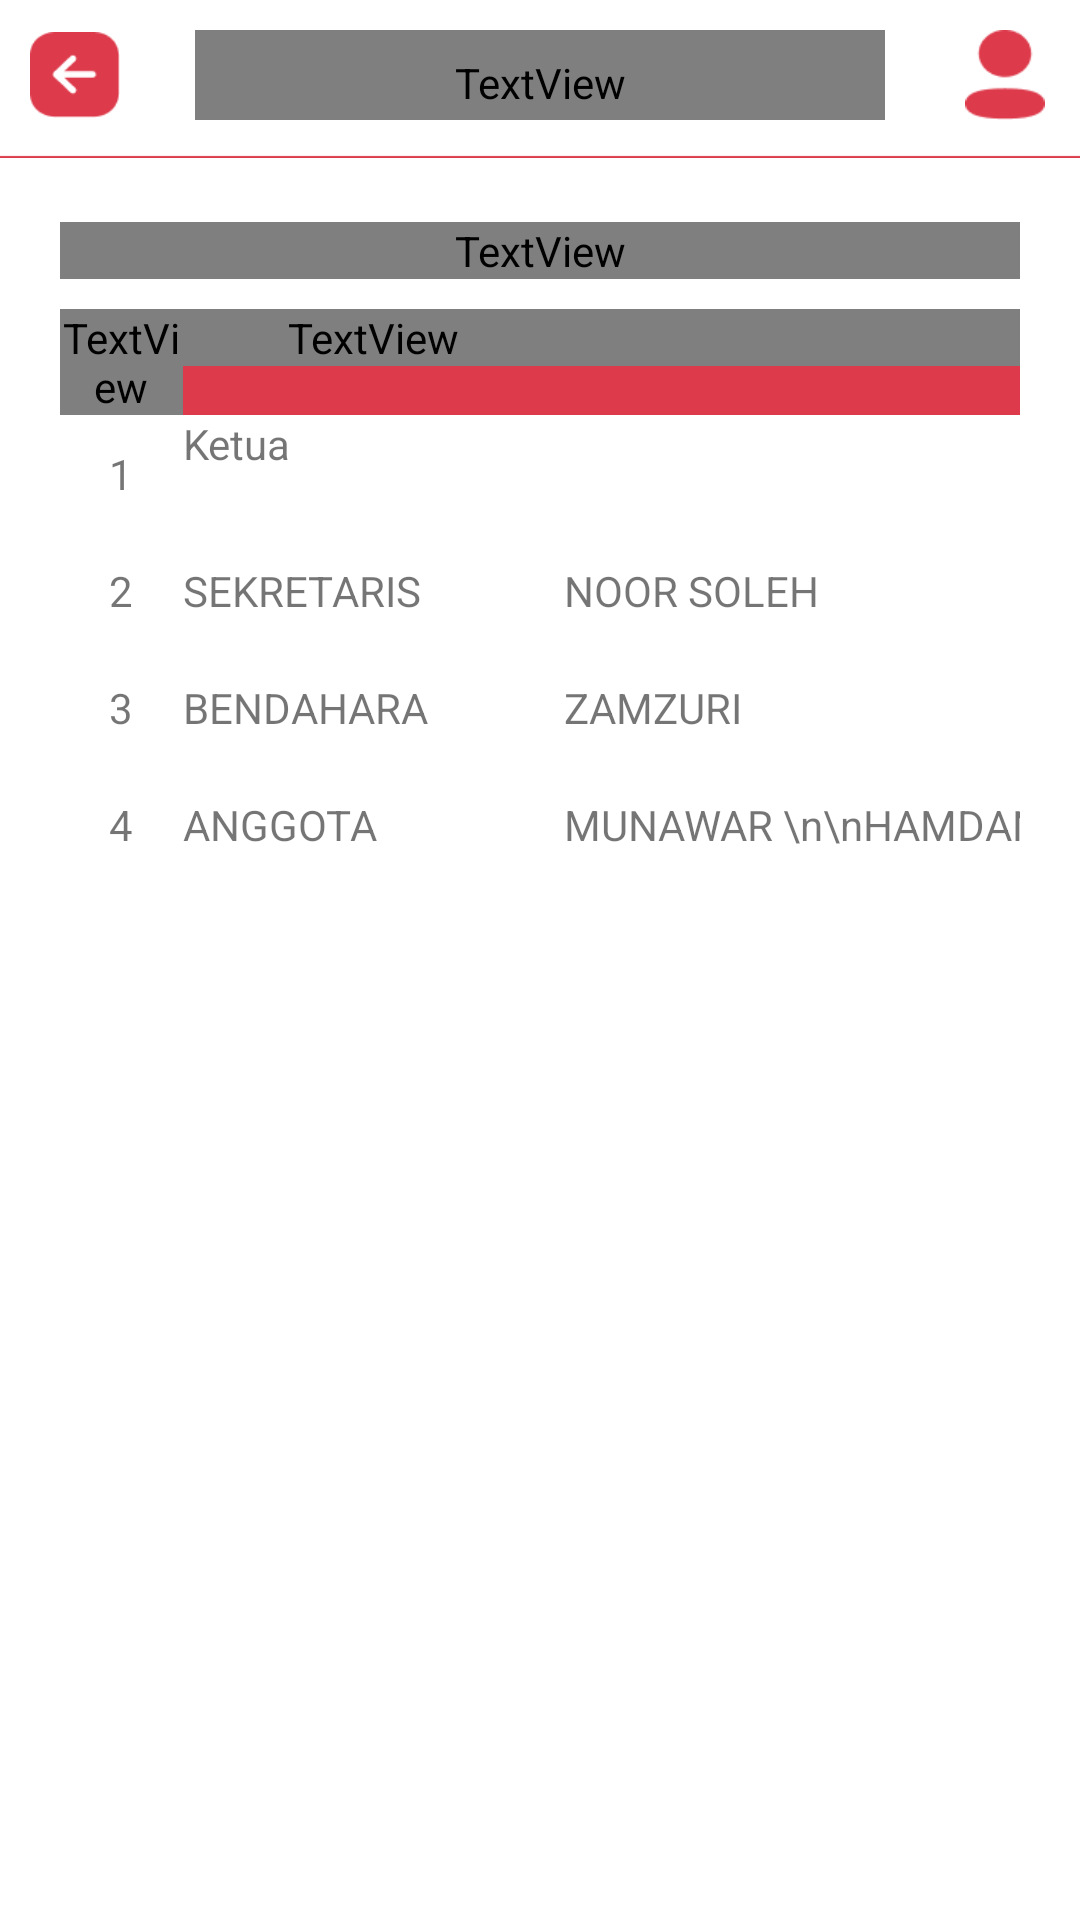

Named icons in this screenshot (1080w x 1920h) and their bounding boxes, Rect(x1, y1, x2, y2):
iconback: Rect(30, 32, 119, 118)
iconprofile: Rect(965, 30, 1045, 120)
